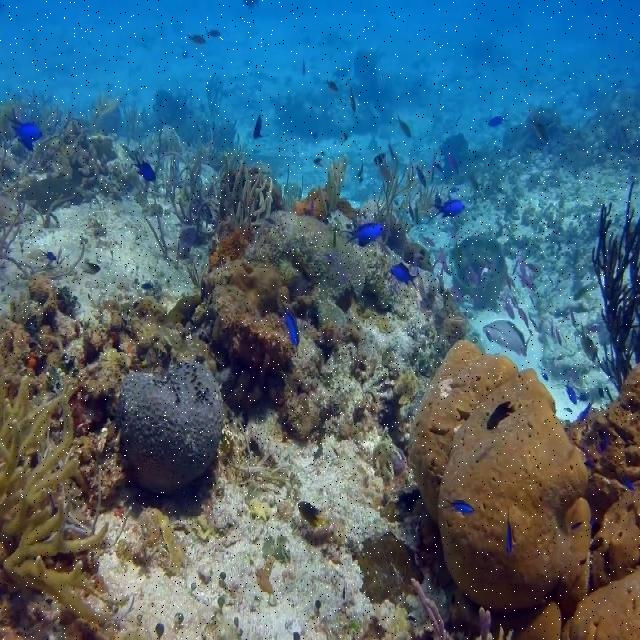fish: (408, 204, 537, 289), (483, 320, 531, 358), (341, 223, 384, 247), (280, 301, 300, 348), (486, 401, 517, 430), (390, 262, 419, 290), (576, 321, 596, 361), (430, 199, 466, 220), (297, 501, 326, 527), (11, 120, 42, 141), (131, 155, 156, 181), (528, 113, 547, 142), (443, 497, 474, 513), (514, 303, 529, 327), (563, 381, 577, 406), (488, 112, 509, 127), (505, 512, 512, 555), (398, 116, 411, 138), (415, 165, 427, 188), (81, 262, 101, 275), (18, 136, 34, 151), (254, 116, 264, 138), (504, 297, 514, 319), (580, 403, 591, 422), (324, 76, 338, 90), (185, 35, 205, 43), (206, 29, 222, 37), (584, 458, 595, 469), (42, 252, 57, 260), (351, 88, 356, 112), (571, 521, 584, 530), (623, 479, 634, 489), (520, 258, 525, 274), (557, 331, 563, 344), (315, 157, 323, 166), (544, 373, 549, 381)
reefs: (0, 359, 135, 624), (592, 181, 639, 392), (162, 150, 273, 237)
